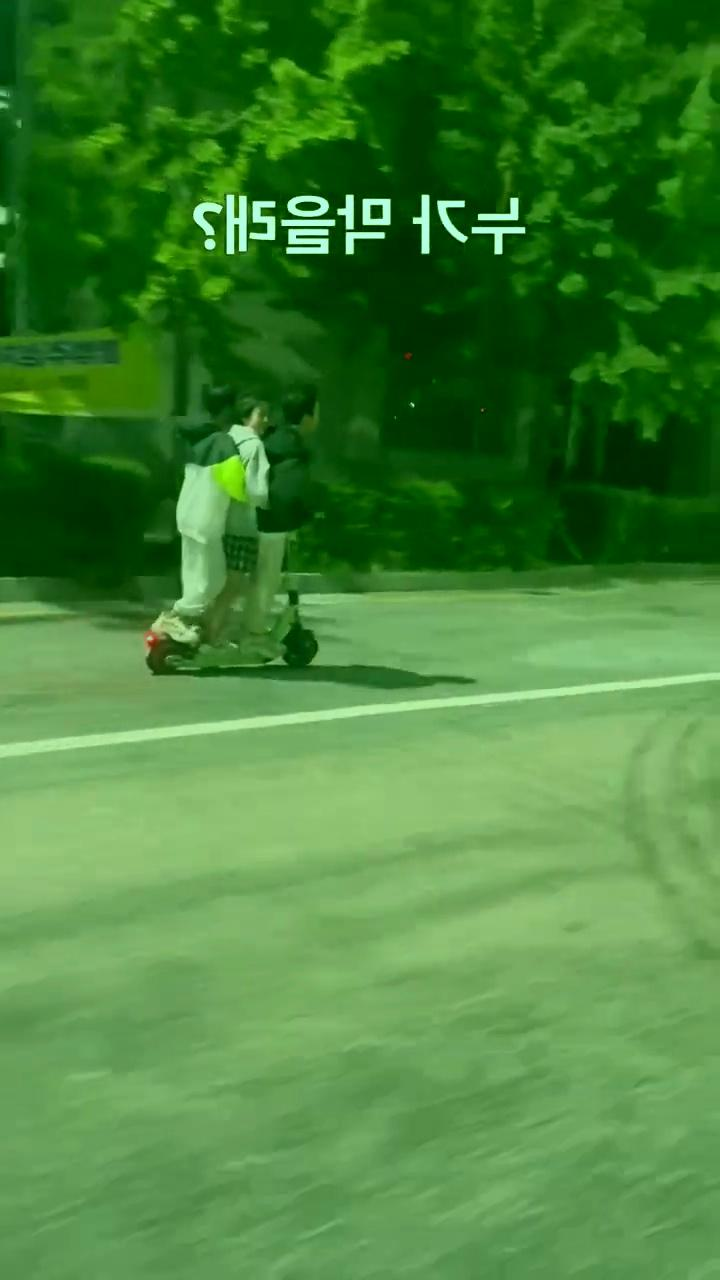multiple: (138, 376, 338, 673)
